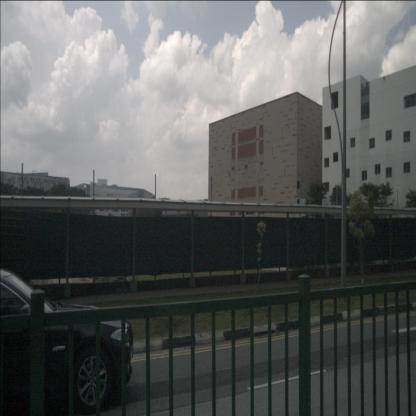vehicle-car: (0, 267, 134, 416)
